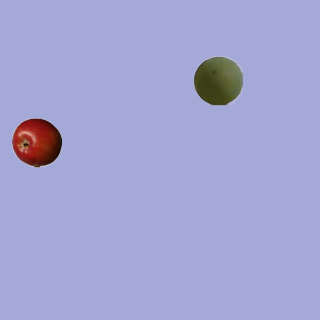Apple Braeburn: (11, 117, 61, 167)
Grape White 4: (192, 55, 242, 105)
